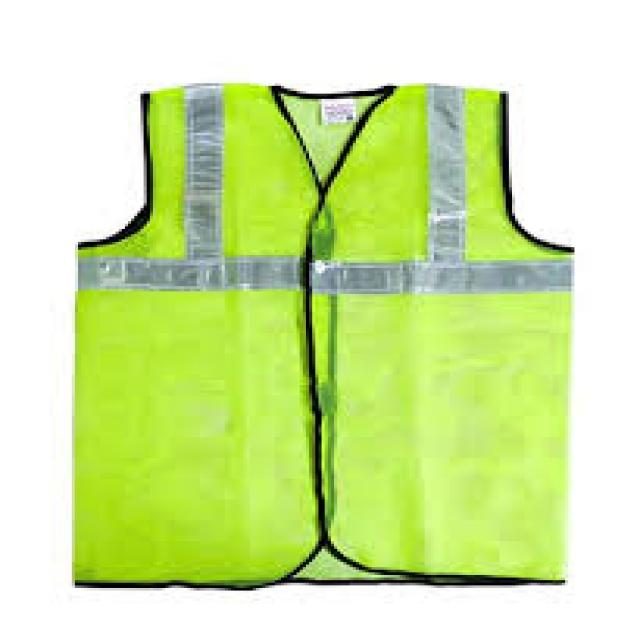Reflective-Jacket: (28, 44, 621, 614)
